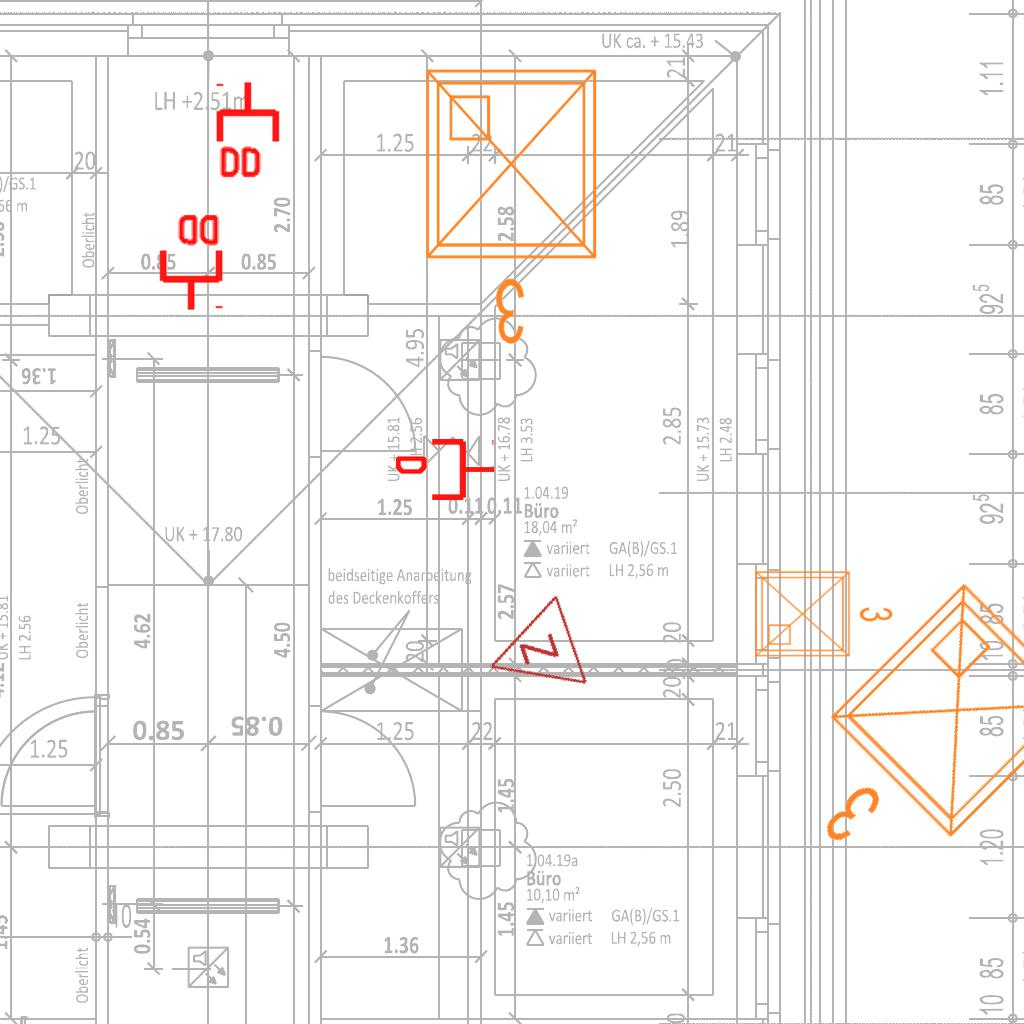Datenanschluss_einfach: (396, 435, 496, 504)
Datenanschluss_zweifach: (155, 210, 224, 313), (215, 79, 284, 182)
Einbaudownlights_LED_Konferenzraeume: (751, 562, 1024, 922), (411, 55, 619, 355), (748, 560, 898, 664)
Zimmersignalleuchte: (468, 591, 596, 717)
